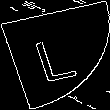L_N: (28, 27, 82, 83)
